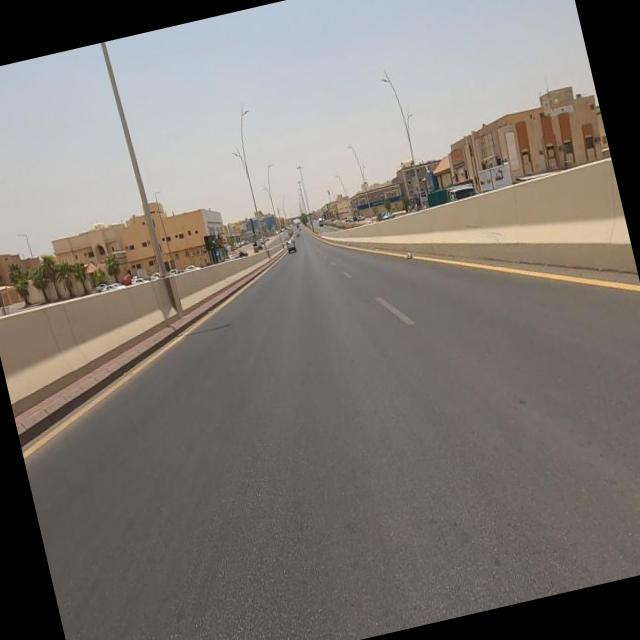debris: (379, 220, 438, 296)
